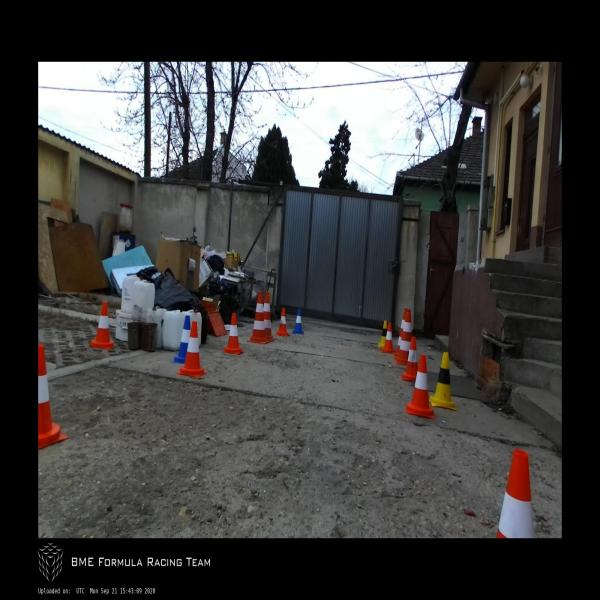blue_cone: (172, 315, 191, 364), (292, 308, 304, 334)
large_orange_cone: (246, 292, 270, 344), (394, 308, 412, 364), (393, 307, 407, 359), (263, 292, 275, 342)
orange_cone: (38, 344, 69, 450), (497, 448, 533, 538), (406, 354, 435, 419), (176, 321, 207, 378), (90, 302, 116, 349), (222, 312, 244, 355), (401, 335, 418, 381), (382, 321, 395, 353), (276, 307, 289, 336)
yellow_cone: (429, 351, 456, 411), (378, 320, 388, 348)
